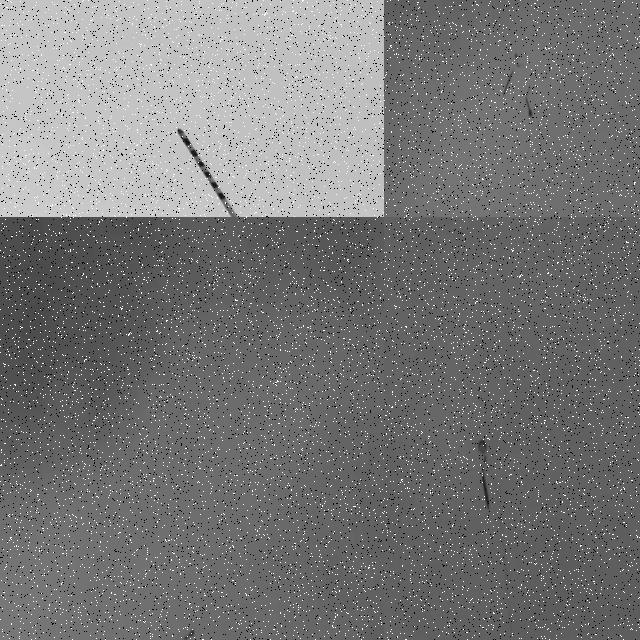Rocket: (175, 127, 262, 217), (525, 95, 533, 118), (183, 628, 194, 640)
